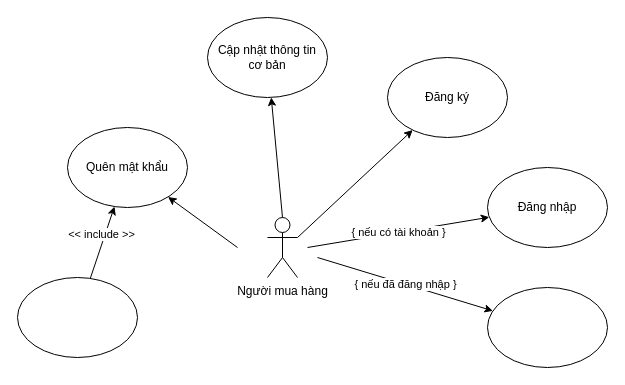
The diagram is 625 pixels wide and 385 high, and some of its shapes have lost their labels. The box of each missing label's shape, as (x1, y1, x2, y2) in pixels:
Xác thực OTP Email: (16, 276, 138, 358)
Đăng xuất: (486, 286, 608, 368)
